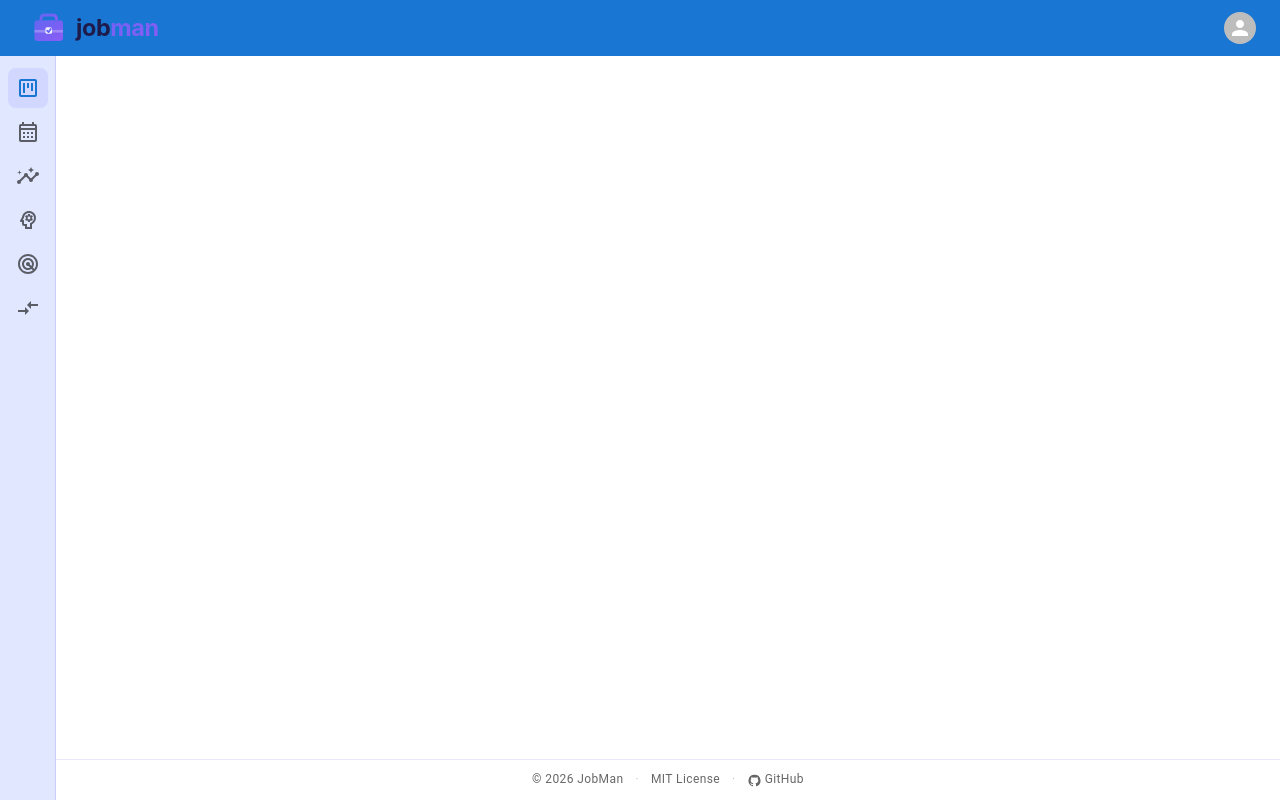
it: appShell › new job search › returns to the name-entry dialog with blocking jobs when the round can't be closed
Click the button named "User menu": (1240, 28) [1224, 12, 1256, 44]
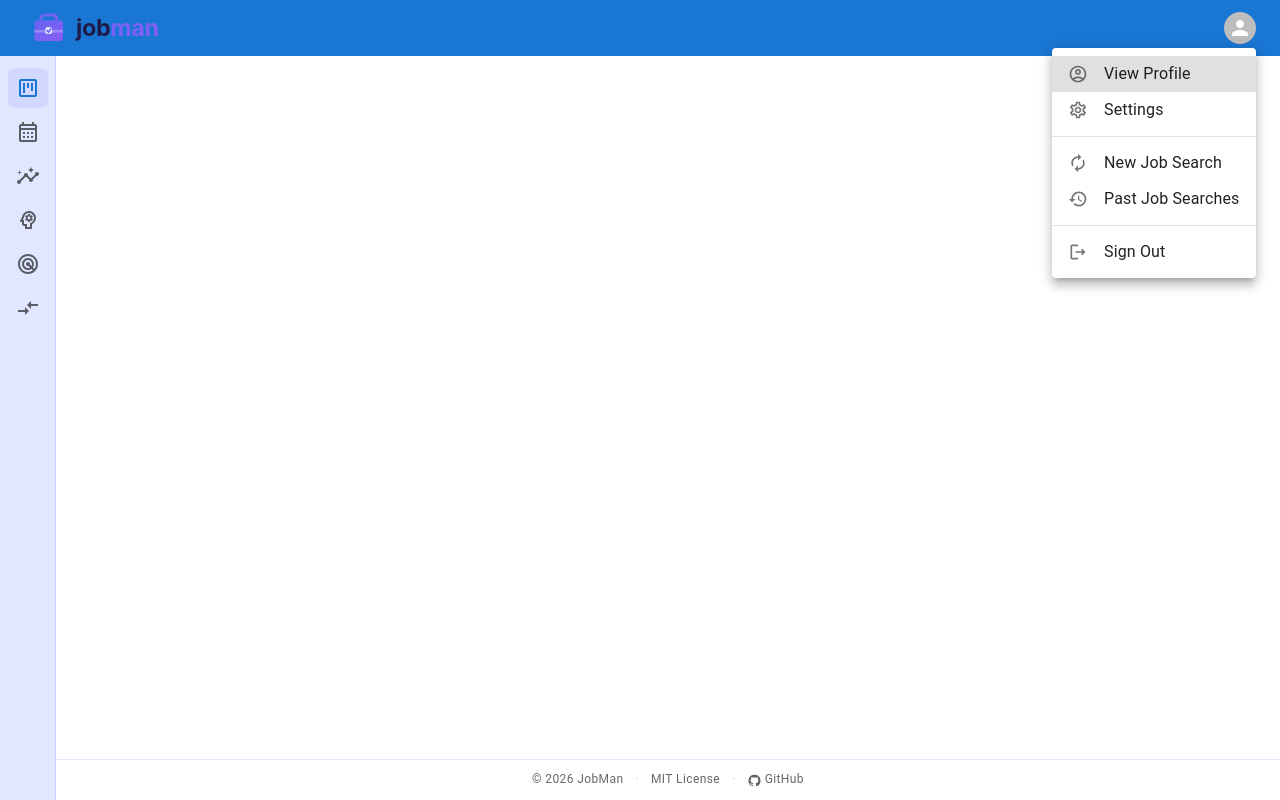
Click the menu item "New Job Search": (1145, 163) [1068, 153, 1222, 173]
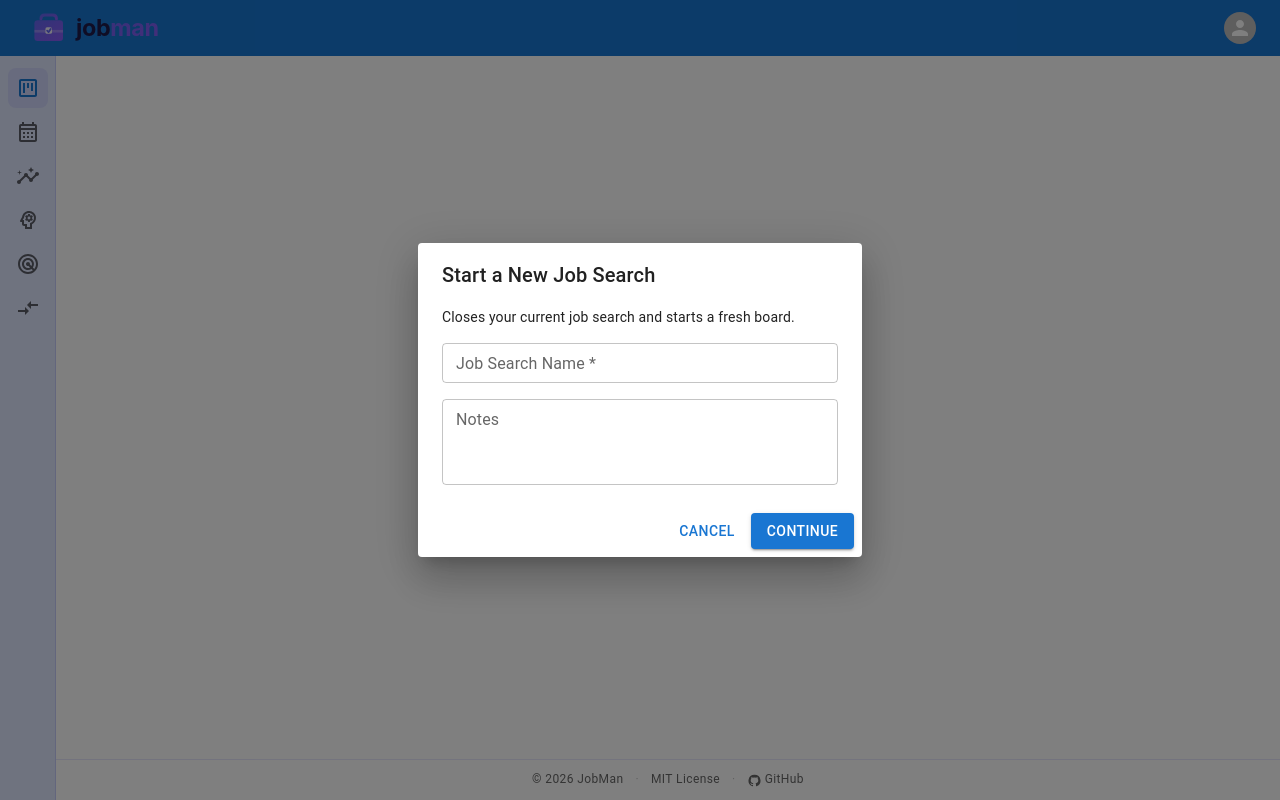
In the field labelled "Job Search Name *": (640, 363) [442, 343, 838, 383], type "Search 2"
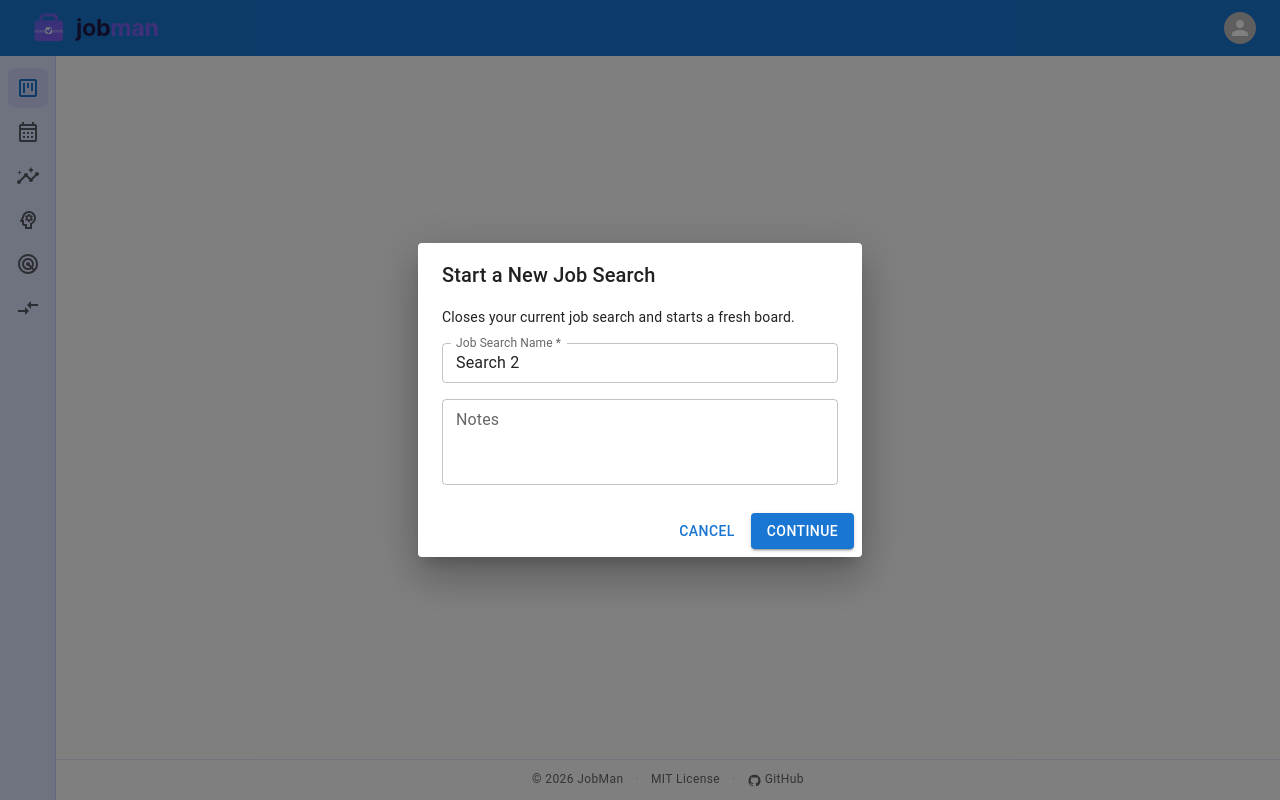
Click the button "Continue": (802, 531) [751, 513, 854, 549]
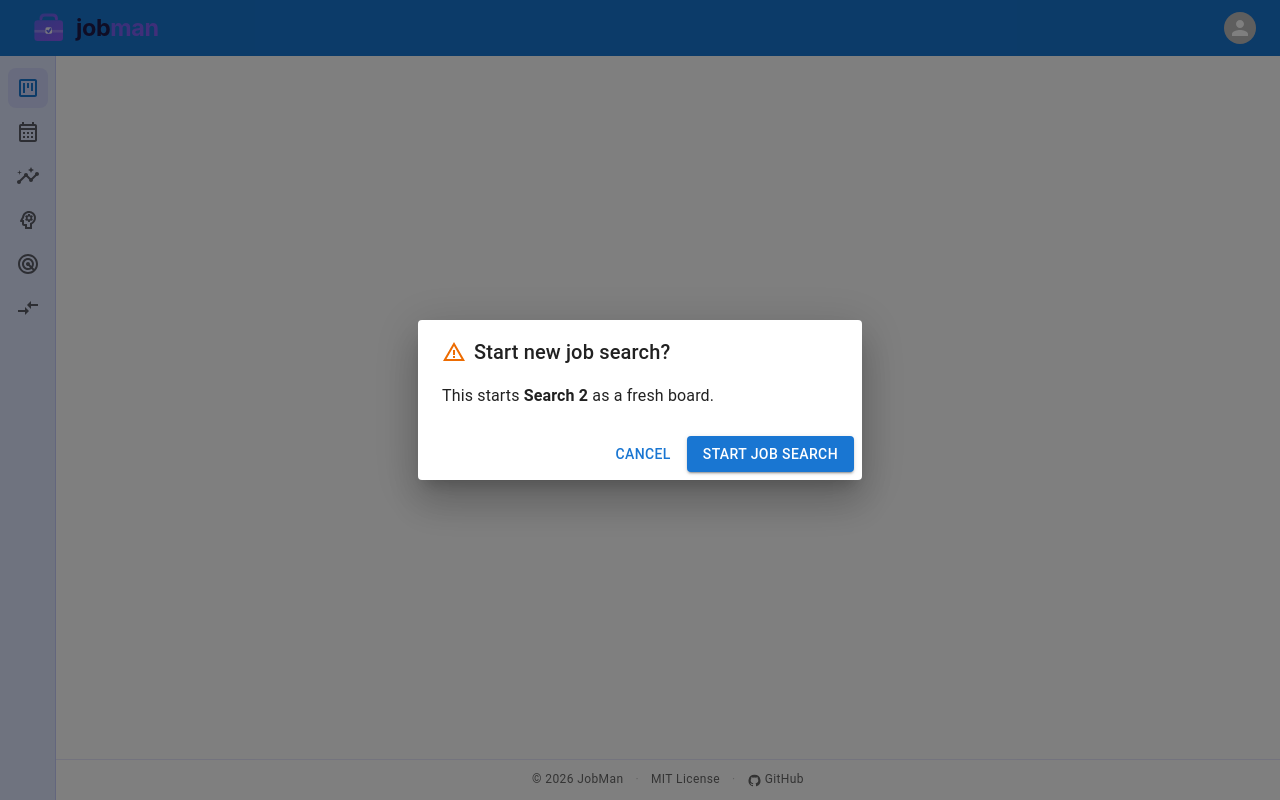
Click the button "Start Job Search": (770, 454) [687, 436, 854, 472]
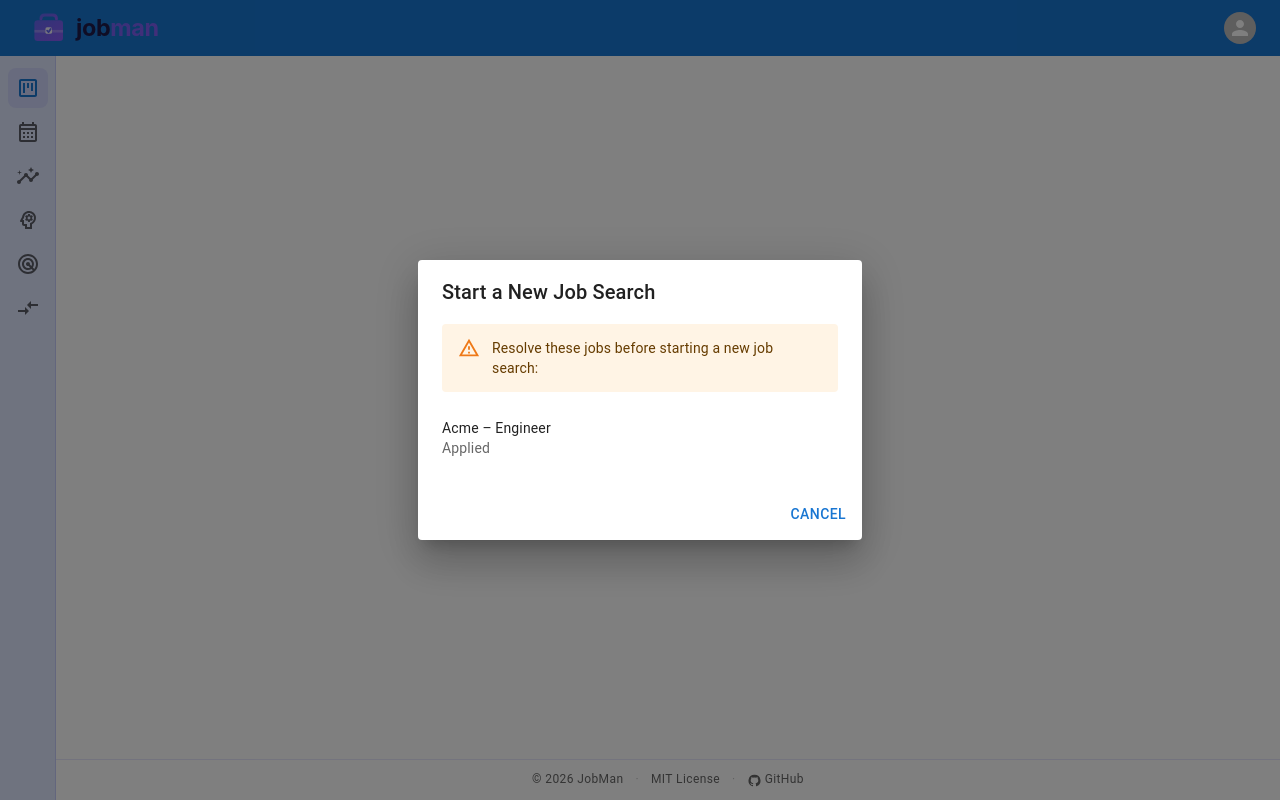
Check: the text "Acme – Engineer" is shown, box [442, 420, 551, 436]
Check: the heading "Start new job search?" is gone
